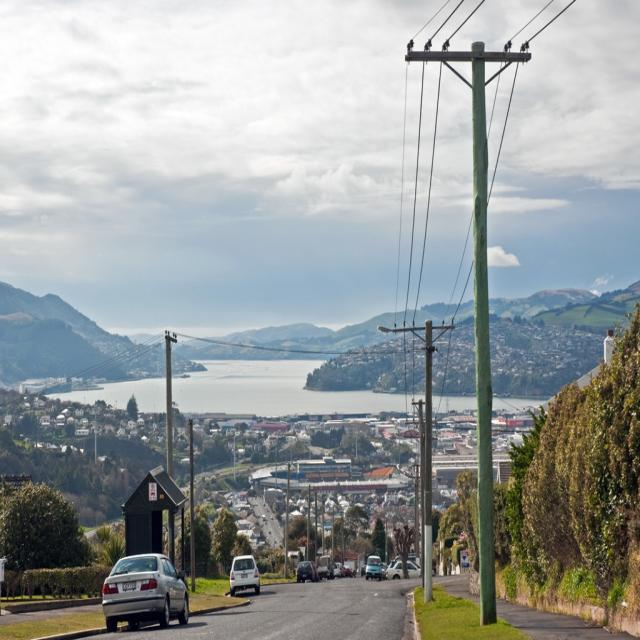car: (94, 559, 183, 623), (231, 552, 255, 593), (297, 556, 312, 579), (366, 555, 378, 577)
